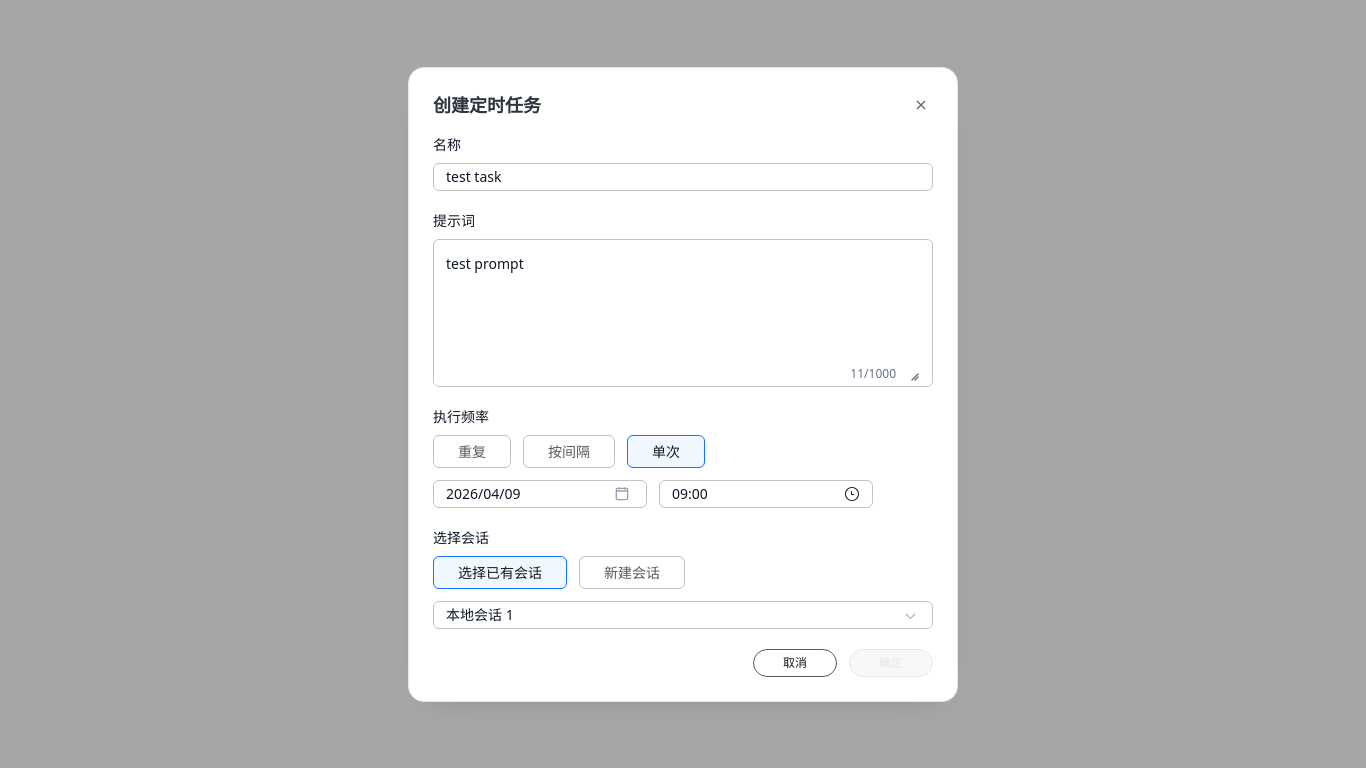
it: ScheduleTaskEditorModal › opens the once date picker upward and constrains the calendar scroll area when viewport space is limited
Click the button with test id "schedule-editor-once-date-trigger" at (540, 494), box [433, 480, 647, 508]
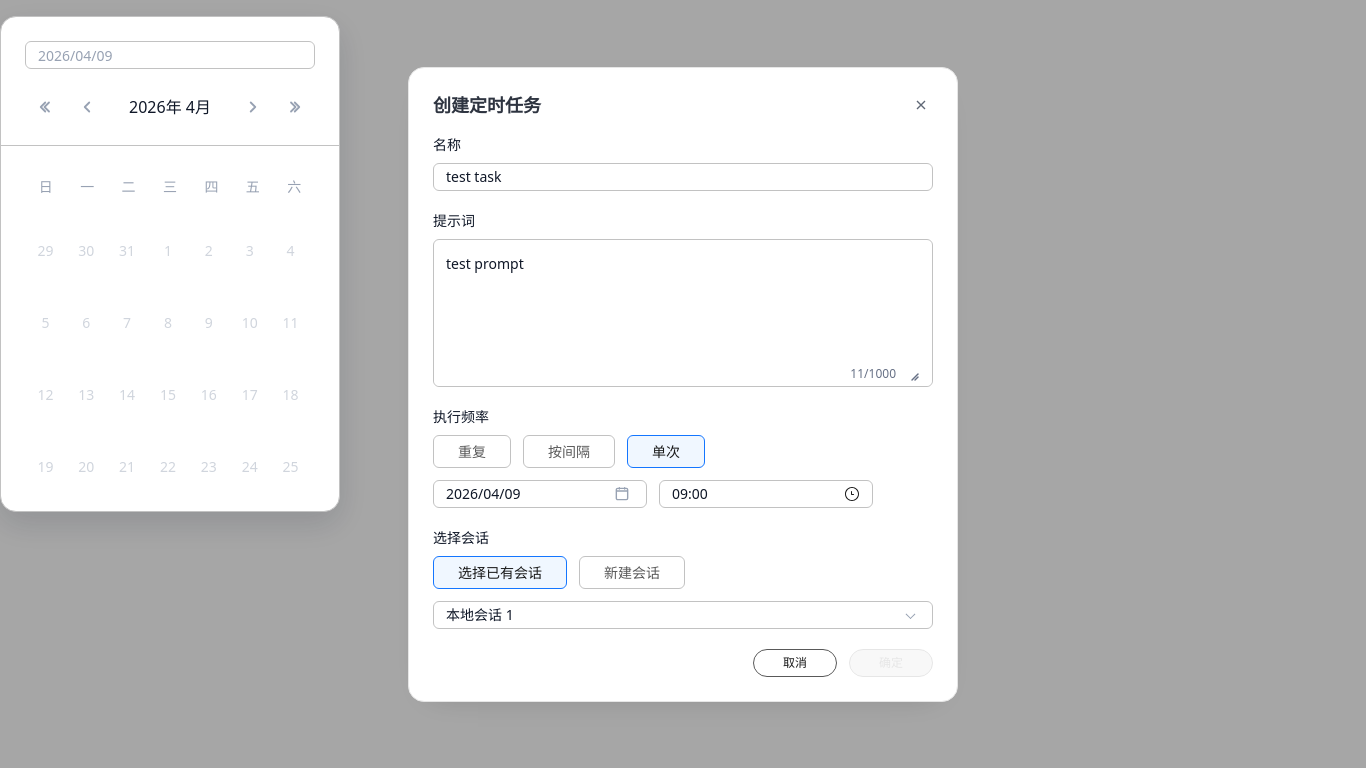
Result: the element with test id "schedule-editor-once-date-panel" is shown at [0, 16, 340, 512]
Result: the element with test id "schedule-editor-once-date-grid-scroll" is shown at [25, 222, 315, 494]
